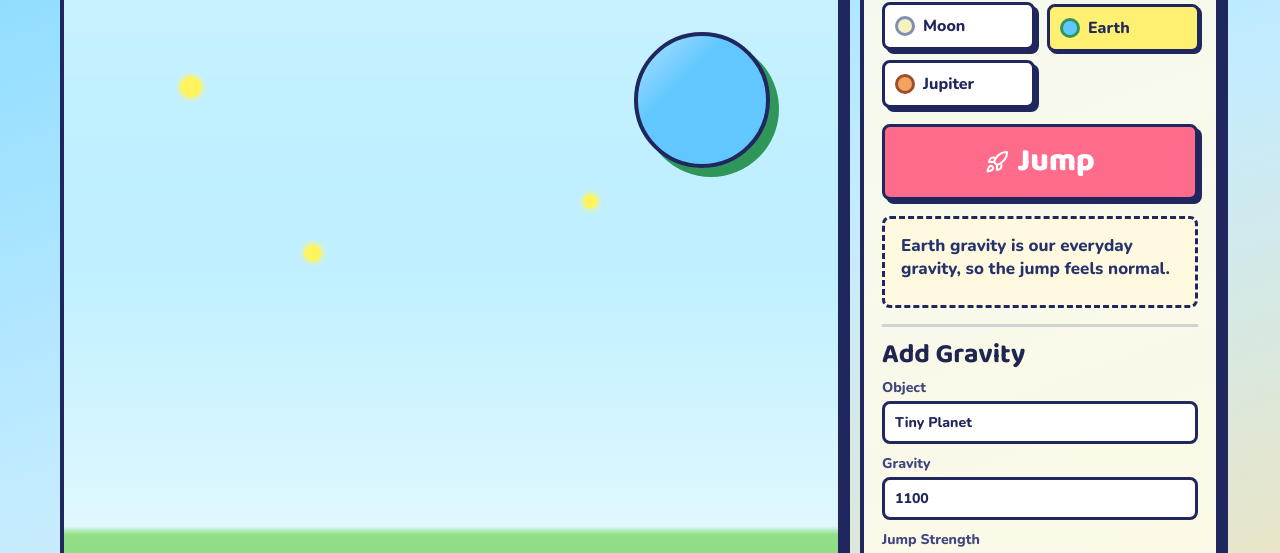
Test: Moon Jump vs Earth Jump › lets players add and select a custom gravity object
Replace the text in the field labelled "Object" with "Comet" at coordinates (1040, 422), box [882,401,1198,444]
(page scrolled)
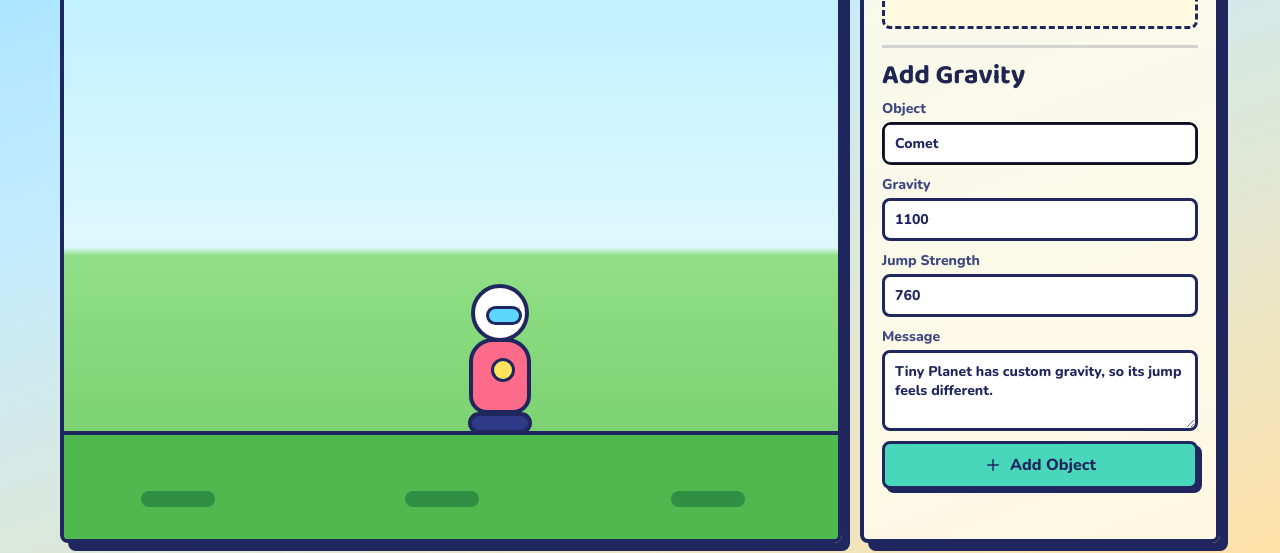
Submit the form "Add Gravity Object Gravity Jump Strength Message Add Object", box [882,45,1198,521]
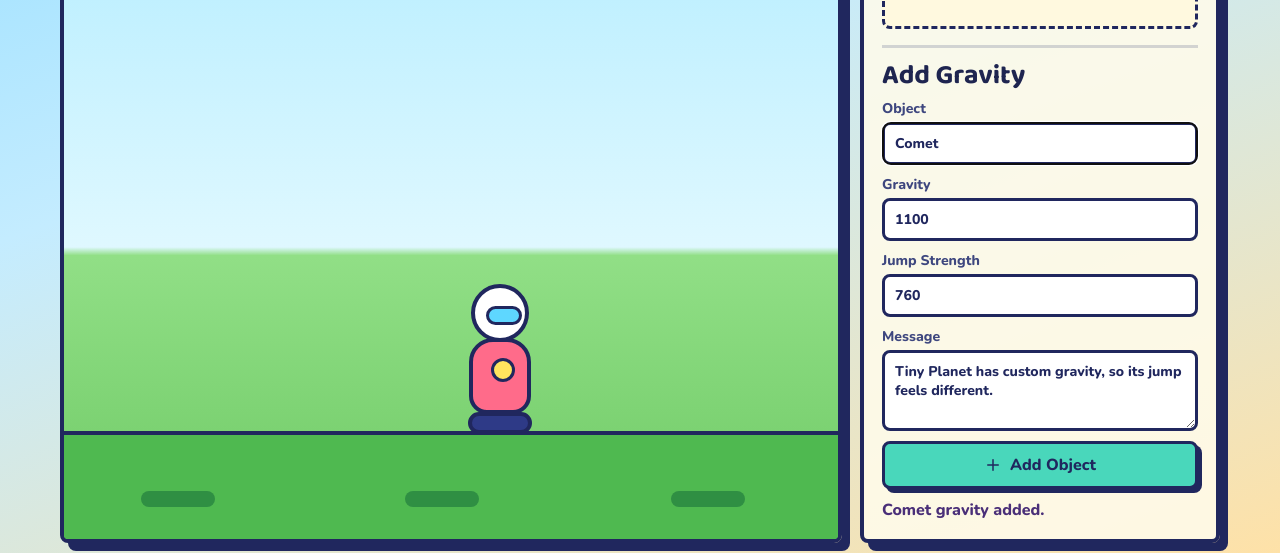
Expected: the text "Comet gravity added." is shown, [882,499,1044,521]
